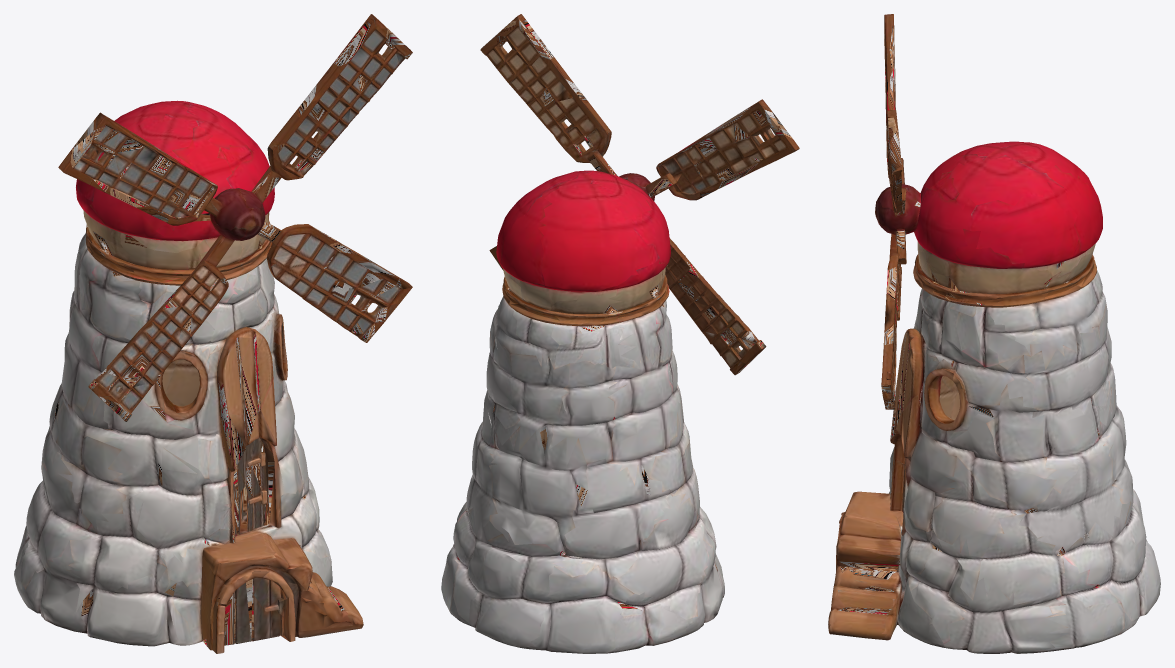
Rendered from windmill.glb.
The picture shows the model from 3 angles, left to right: view 1: azimuth 30°, elevation 25°; view 2: azimuth 150°, elevation 25°; view 3: azimuth 270°, elevation 25°; orthographic projection. The views are drawn at different scales.
Visible parts, largest first — view 1: output_unwrapped; view 2: output_unwrapped; view 3: output_unwrapped.
Boxes of the visible parts, <box> form: output_unwrapped: <box>14,14,412,653</box>; output_unwrapped: <box>441,14,799,653</box>; output_unwrapped: <box>828,14,1160,653</box>.
Bounding box in the file's own units: 1.22 × 1.9 × 1.05.
1 material, 1 textured.
